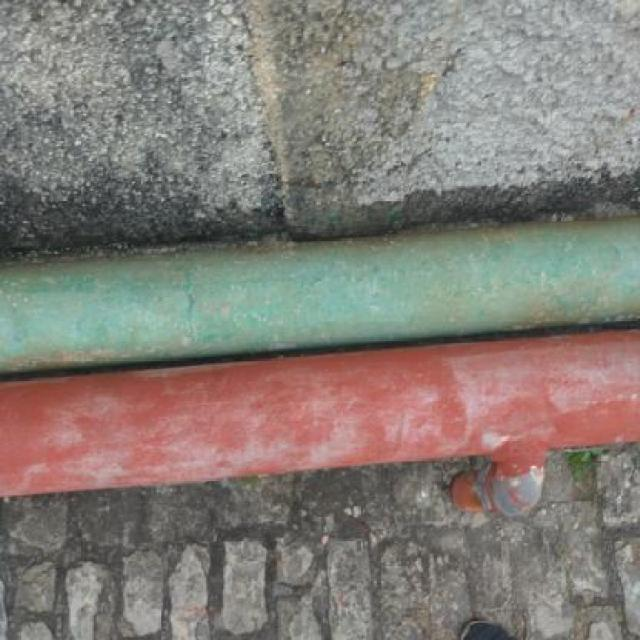gas: (7, 330, 637, 492), (3, 216, 640, 374), (455, 452, 544, 513)
